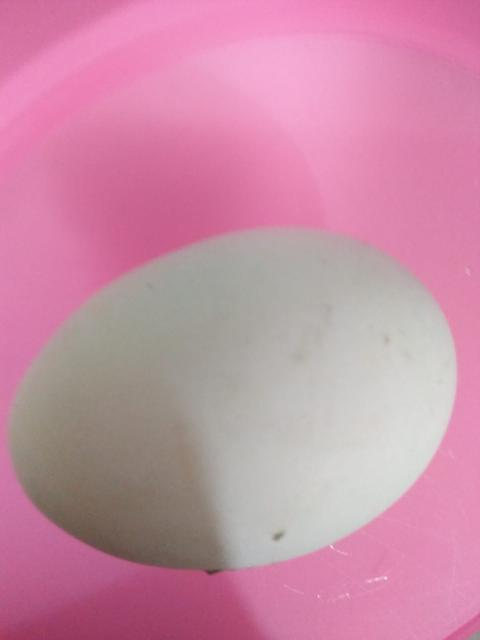Sano: (7, 225, 458, 572)
